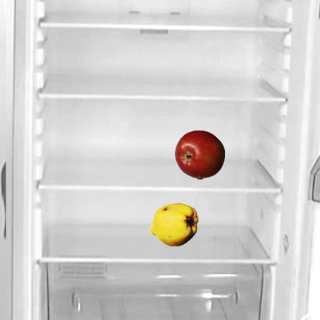Apple Braeburn: (174, 129, 224, 179)
Quince: (148, 199, 198, 249)
